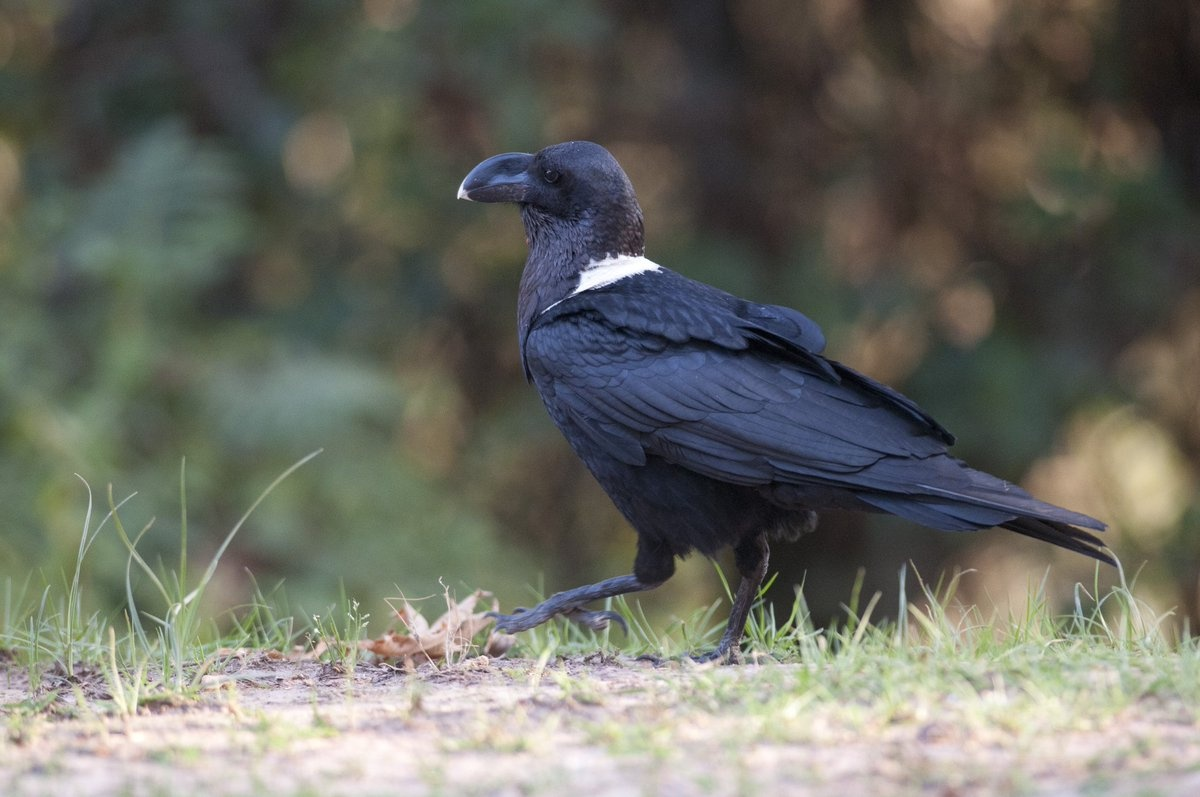bird: (444, 136, 1131, 677)
